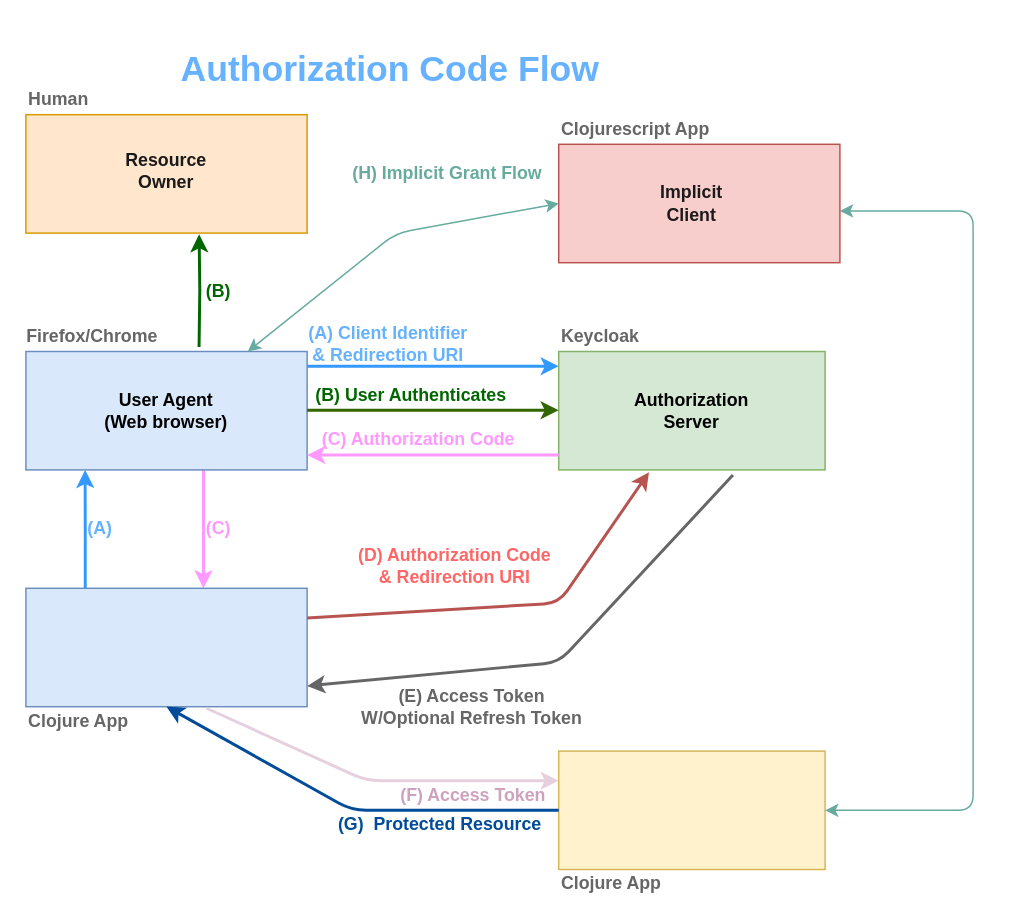
This 1012x924 diagram has some shape labels left out. Here are the shapes that lost their labels. From the top down, the box of each, then its label:
(24, 587, 307, 707): Client (Web server)
(557, 750, 825, 870): Resource Server (Services)
